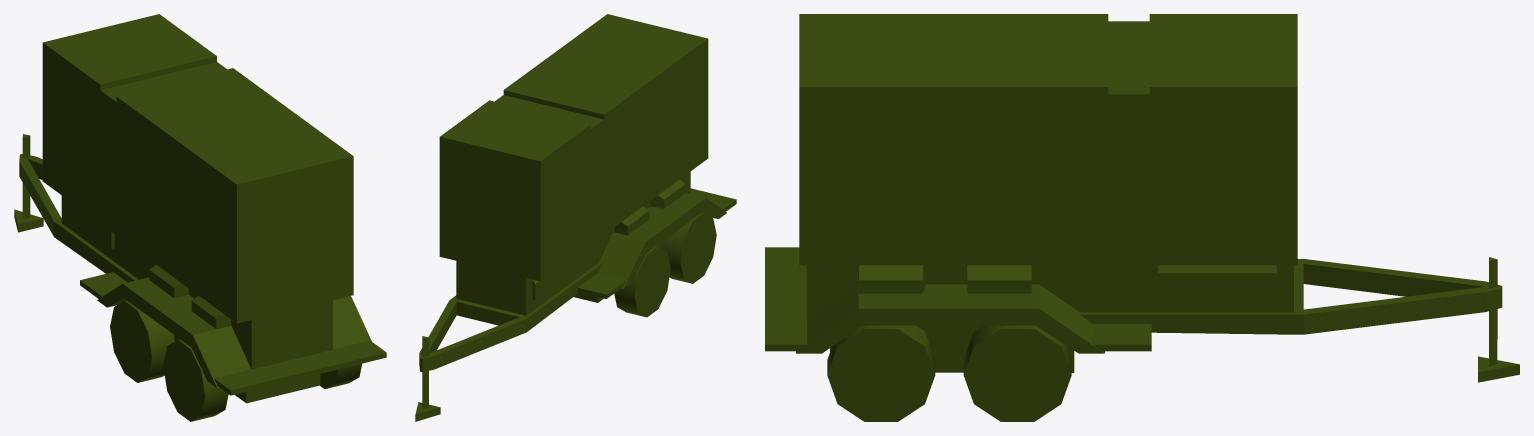
Rendered from GeneratorA_M.fbx.
3 renders of one model, left to right at view 1: azimuth 30°, elevation 25°; view 2: azimuth 150°, elevation 25°; view 3: azimuth 270°, elevation 25°, orthographic. The views are drawn at different scales.
Parts seen in each view (by area): view 1: GeneratorA; view 2: GeneratorA; view 3: GeneratorA.
Part boxes in pixels (x1=…): GeneratorA: x1=14, y1=14, x2=386, y2=421; GeneratorA: x1=415, y1=14, x2=736, y2=421; GeneratorA: x1=765, y1=14, x2=1519, y2=421.
Size of the model in its own units: 1.74 by 2.65 by 5.59.
